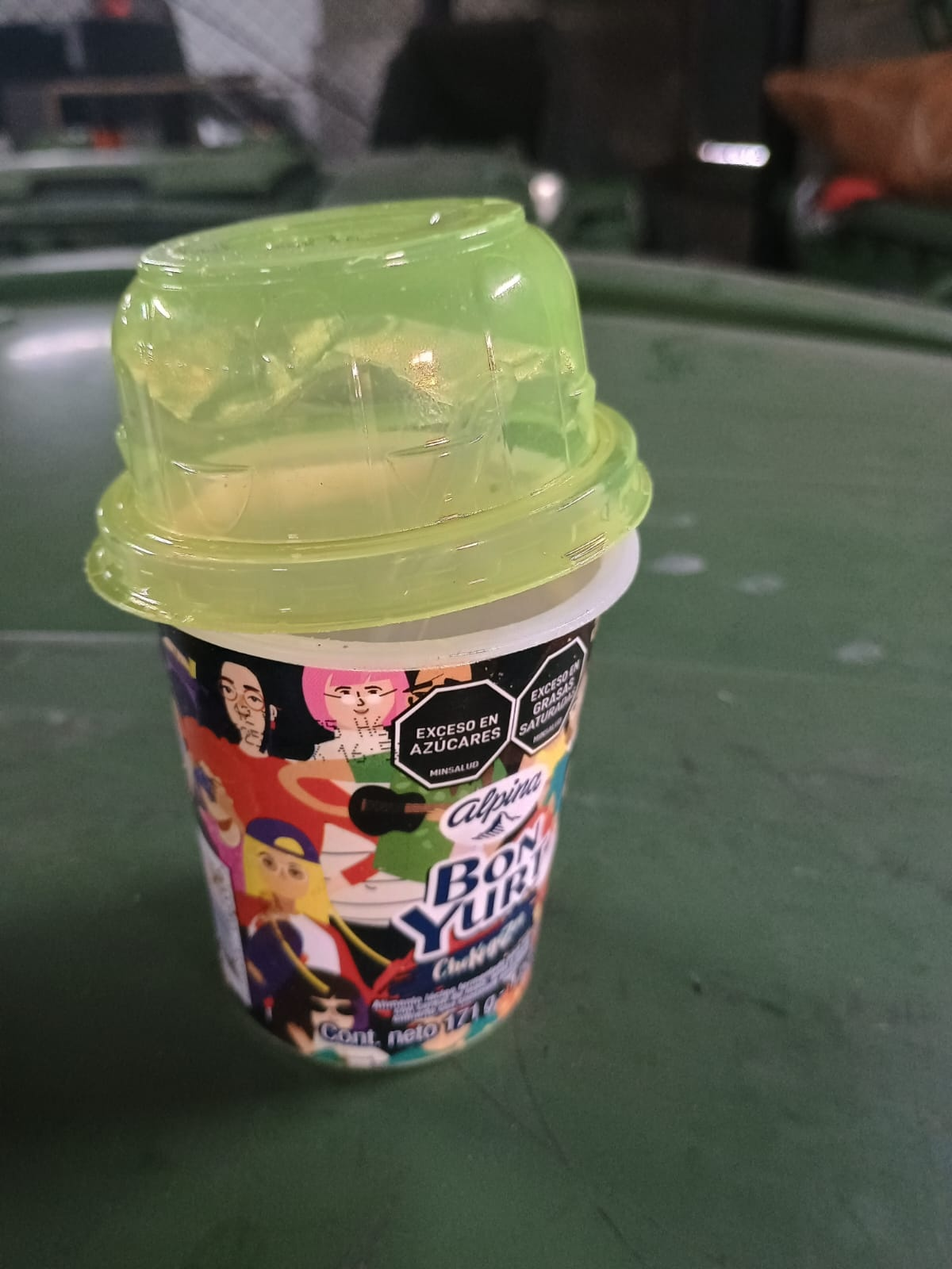Plastico: (85, 196, 651, 1067)
